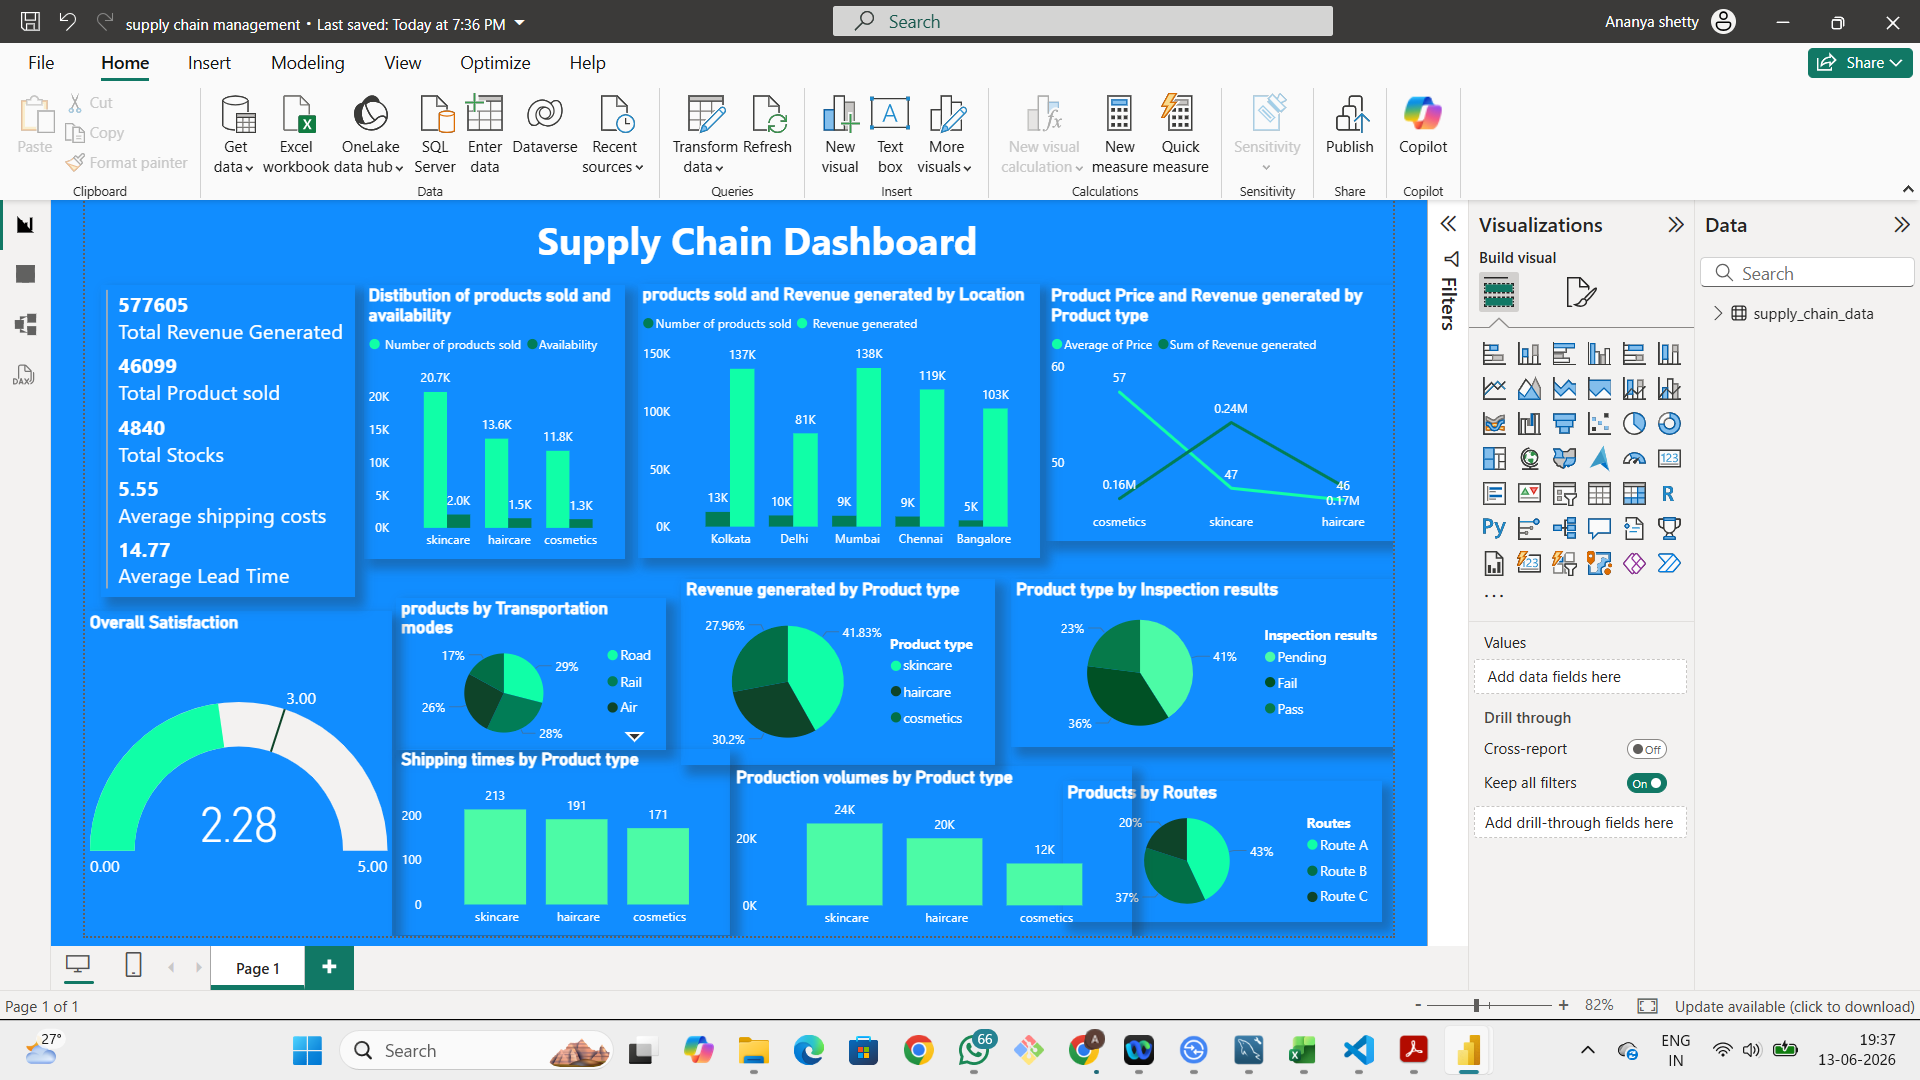

The page's visual inventory and layout, read from the dashboard file:
{"tool":"powerbi","page":{"name":"Page 1","canvas":[1280,720],"ordinal":0},"visuals":[{"type":"multiRowCard","fields":{"Values":["supply_chain_data.Total Revenue Generated","supply_chain_data.Total Product sold","supply_chain_data.Total Stocks","supply_chain_data.Average shipping costs","supply_chain_data.Average Lead Time"]},"box":[16.3,82.6,247.7,305.8],"z":0},{"type":"clusteredColumnChart","title":"Distibution of products sold and availability","fields":{"Category":["supply_chain_data.Product type"],"Y":["Sum(supply_chain_data.Number of products sold)","Sum(supply_chain_data.Availability)"]},"box":[272.7,83.2,255.6,267.8],"z":1000},{"type":"clusteredColumnChart","title":" products sold and  Revenue generated by Location","fields":{"Category":["supply_chain_data.Location"],"Y":["Sum(supply_chain_data.Number of products sold)","Sum(supply_chain_data.Revenue generated)"]},"box":[540.5,81.9,393.8,267.8],"z":2000},{"type":"pieChart","title":"products by Transportation modes","fields":{"Y":["CountNonNull(supply_chain_data.SKU)"],"Category":["supply_chain_data.Transportation modes"]},"box":[304.7,388.4,264,148.8],"z":3000},{"type":"pieChart","title":" Revenue generated by Product type","fields":{"Category":["supply_chain_data.Product type"],"Y":["Sum(supply_chain_data.Revenue generated)"]},"box":[583.7,370.9,307,182.6],"z":4000},{"type":"pieChart","title":"Products by Routes","fields":{"Y":["CountNonNull(supply_chain_data.SKU)"],"Category":["supply_chain_data.Routes"]},"box":[955.8,568.6,312.8,137.2],"z":5000},{"type":"gauge","title":"Overall Satisfaction","fields":{"Y":["Avg(supply_chain_data.Defect rates)"],"MinValue":["supply_chain_data.Minimum value"],"MaxValue":["supply_chain_data.maximun Value"],"TargetValue":["supply_chain_data.Target value"]},"box":[0,402.3,301.2,317.4],"z":6000},{"type":"lineChart","title":"Product Price and Revenue generated by Product type","fields":{"Category":["supply_chain_data.Product type"],"Y":["Avg(supply_chain_data.Price)"],"Y2":["Sum(supply_chain_data.Revenue generated)"]},"box":[940.7,82.6,339.5,250],"z":7000},{"type":"columnChart","title":"Shipping times by Product type","fields":{"Category":["supply_chain_data.Product type"],"Y":["Sum(supply_chain_data.Shipping times)"]},"box":[304.7,537.2,326.7,182.6],"z":8000},{"type":"clusteredColumnChart","title":"Production volumes by Product type","fields":{"Category":["supply_chain_data.Product type"],"Y":["Sum(supply_chain_data.Production volumes)"]},"box":[632.6,553.5,391.9,166.3],"z":9000},{"type":"pieChart","title":"Product type by Inspection results","fields":{"Category":["supply_chain_data.Inspection results"],"Y":["CountNonNull(supply_chain_data.Product type)"]},"box":[905.8,370.9,374.4,165.1],"z":10000},{"type":"textbox","box":[437.2,8.1,453.5,74.4],"z":11000}]}

Visuals, with their boxes on the page's 1280x720 design canvas (x1, y1, x2, y2). These are canvas units, not pixel positions in the 1920x1080 screenshot, which may show the page scaled, cropped or inside an application window:
multiRowCard - supply_chain_data.Total Revenue Generated x supply_chain_data.Total Product sold: pyautogui.locateOnScreen(16, 83, 264, 388)
"Distibution of products sold and availability" clusteredColumnChart: pyautogui.locateOnScreen(273, 83, 528, 351)
" products sold and  Revenue generated by Location" clusteredColumnChart: pyautogui.locateOnScreen(540, 82, 934, 350)
"products by Transportation modes" pieChart: pyautogui.locateOnScreen(305, 388, 569, 537)
" Revenue generated by Product type" pieChart: pyautogui.locateOnScreen(584, 371, 891, 554)
"Products by Routes" pieChart: pyautogui.locateOnScreen(956, 569, 1269, 706)
"Overall Satisfaction" gauge: pyautogui.locateOnScreen(0, 402, 301, 720)
"Product Price and Revenue generated by Product type" lineChart: pyautogui.locateOnScreen(941, 83, 1280, 333)
"Shipping times by Product type" columnChart: pyautogui.locateOnScreen(305, 537, 631, 720)
"Production volumes by Product type" clusteredColumnChart: pyautogui.locateOnScreen(633, 554, 1024, 720)
"Product type by Inspection results" pieChart: pyautogui.locateOnScreen(906, 371, 1280, 536)
textbox: pyautogui.locateOnScreen(437, 8, 891, 82)
